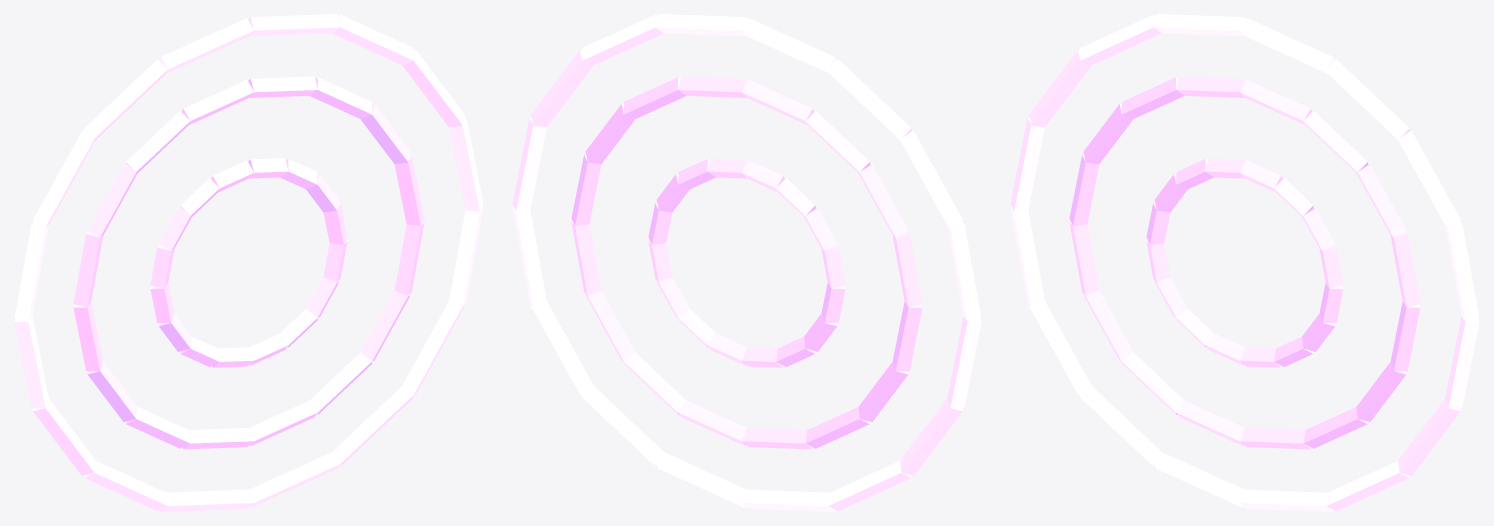
File: hellportal.glb
3 renders of one model, left to right at view 1: azimuth 30°, elevation 25°; view 2: azimuth 150°, elevation 25°; view 3: azimuth 330°, elevation 25°, orthographic.
Parts seen in each view (by area): view 1: Hell Portal dimensional effect.001; view 2: Hell Portal dimensional effect.001; view 3: Hell Portal dimensional effect.001.
Part boxes in pixels (<box>): Hell Portal dimensional effect.001: <box>14,14,483,511</box>; Hell Portal dimensional effect.001: <box>512,14,981,511</box>; Hell Portal dimensional effect.001: <box>1010,14,1479,511</box>.
Bounding box in the file's own units: 1.83 × 1.83 × 0.07.
